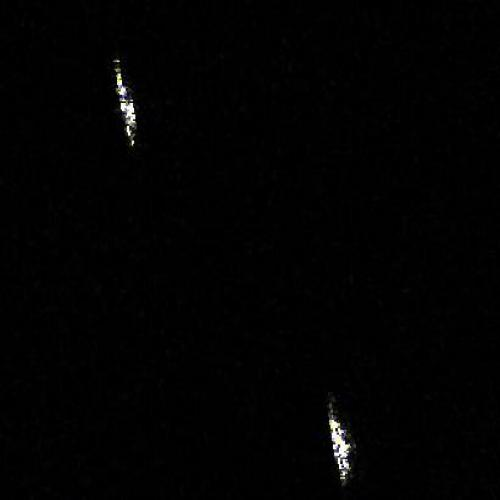ship: (112, 60, 139, 149), (326, 402, 351, 484)
